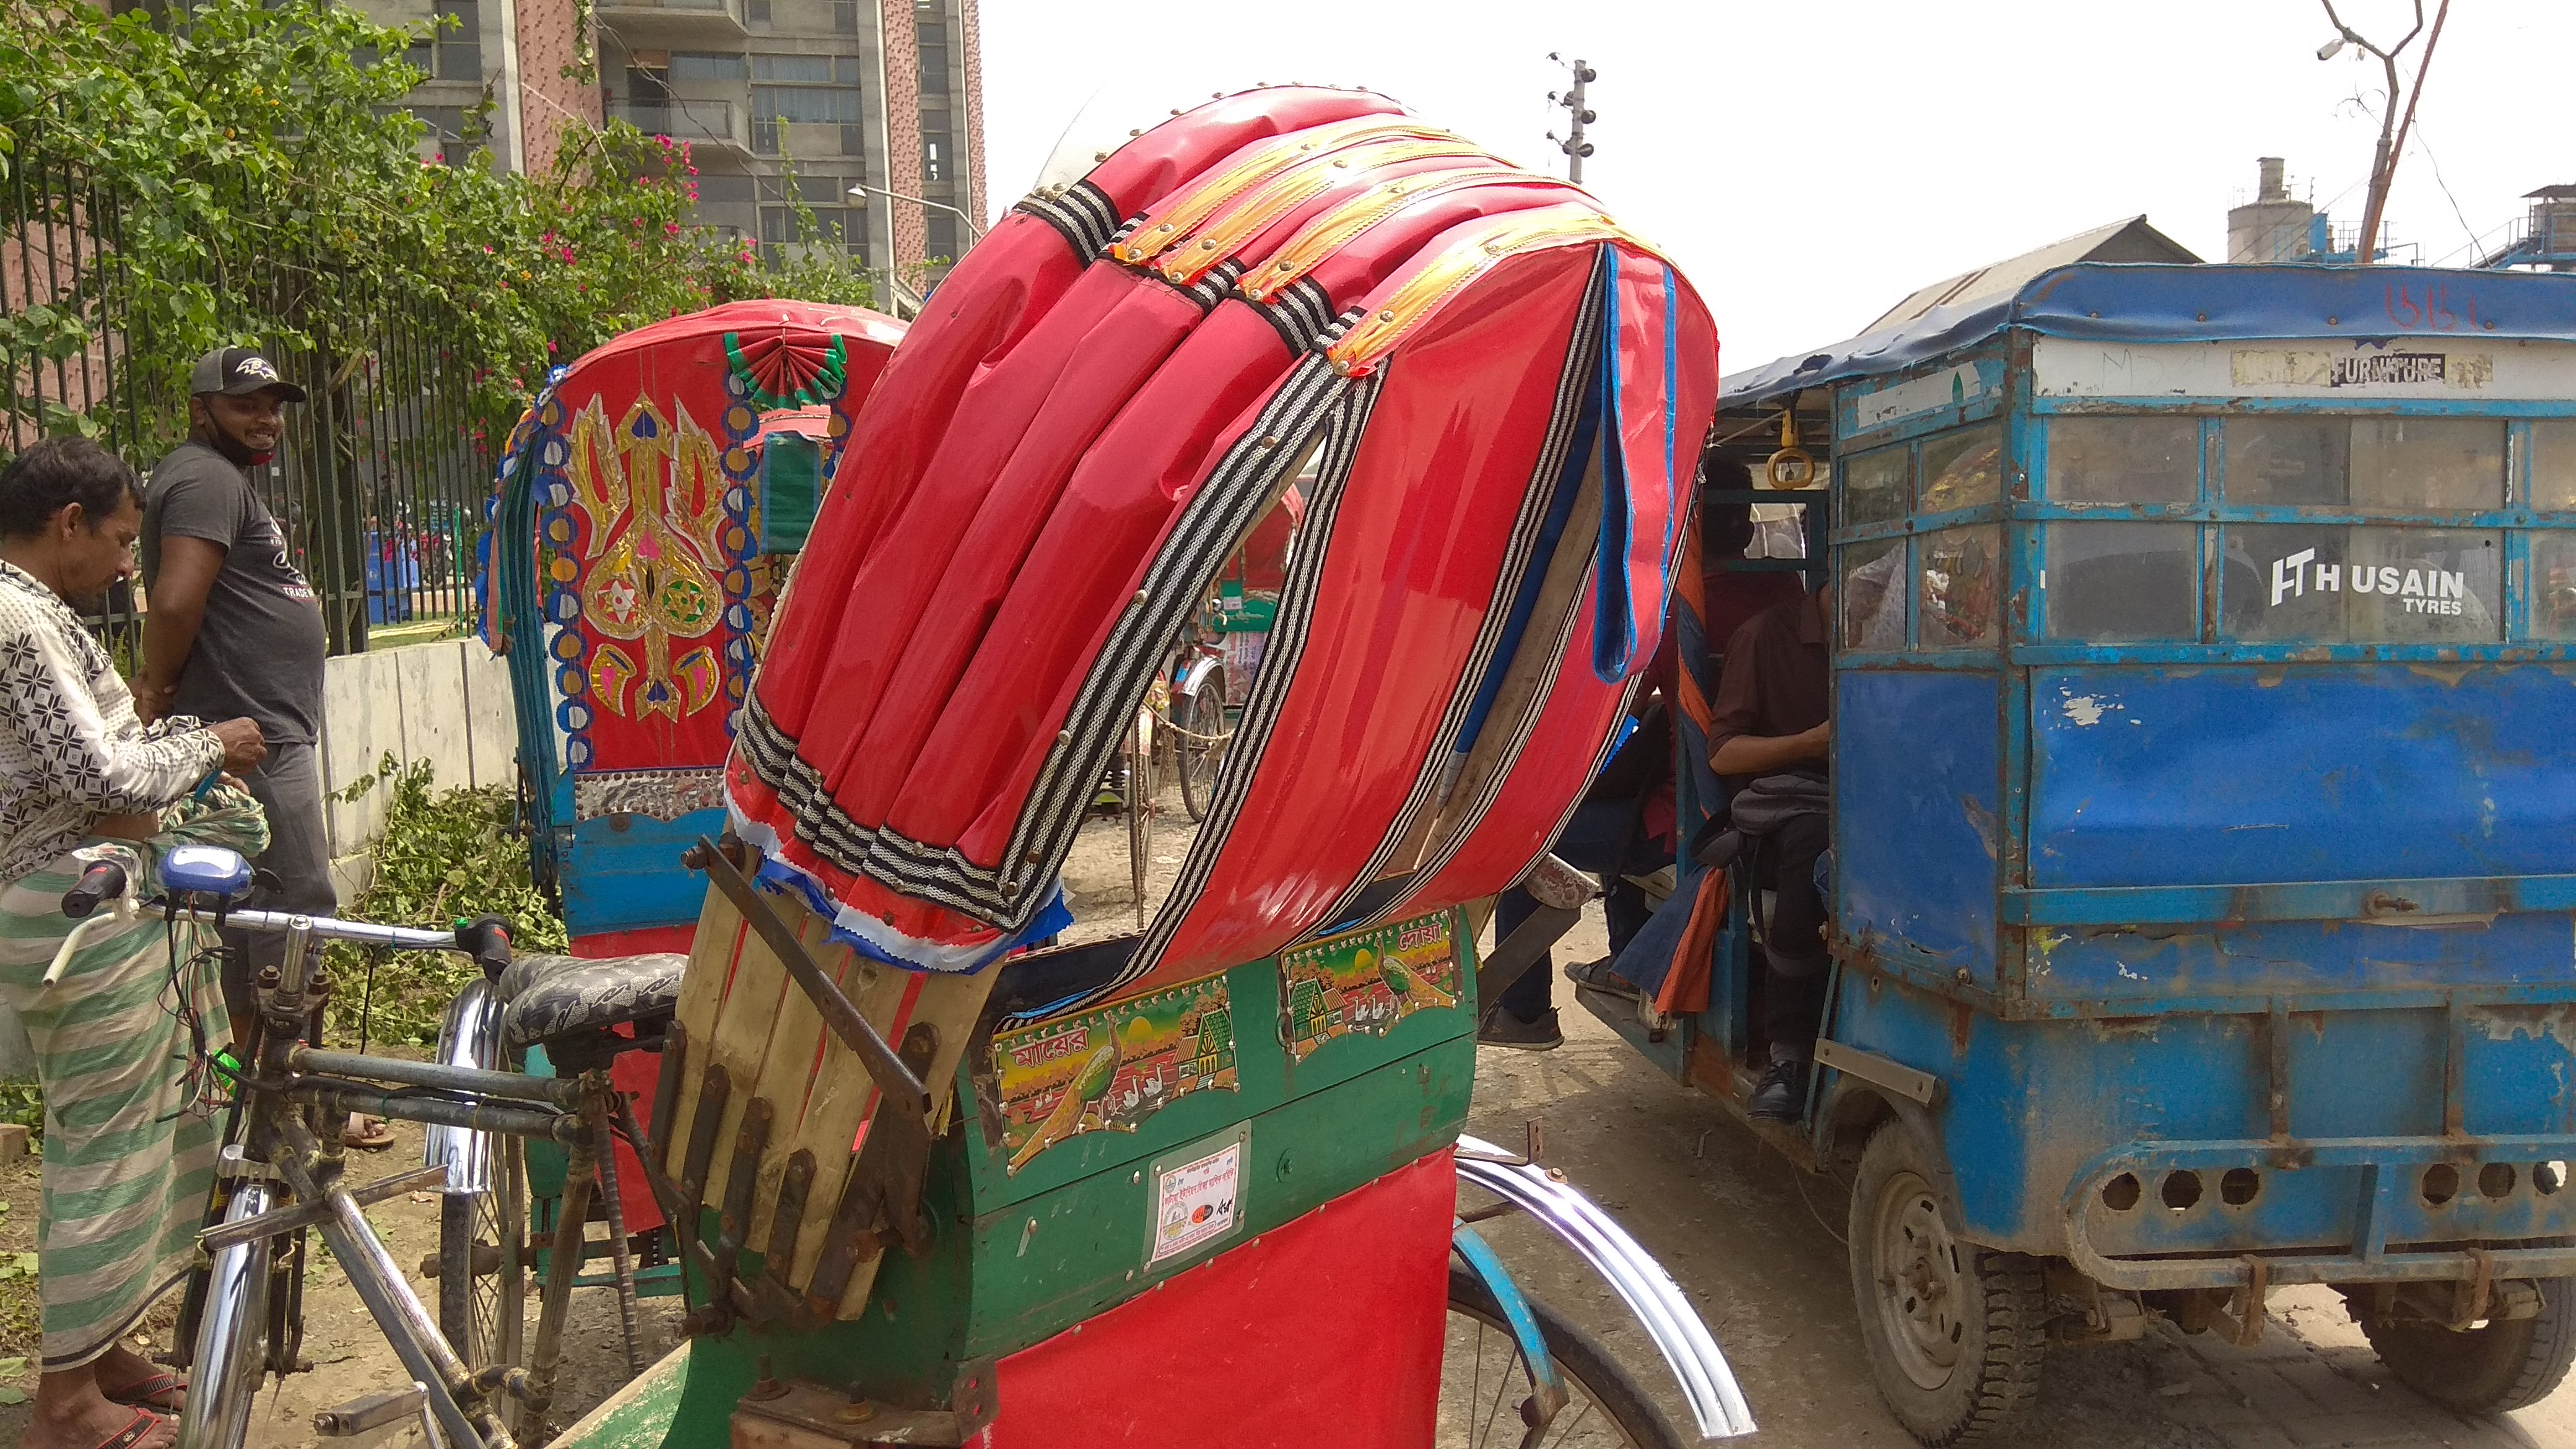Rickshaw: (103, 19, 1744, 1447), (449, 310, 1086, 1348)
